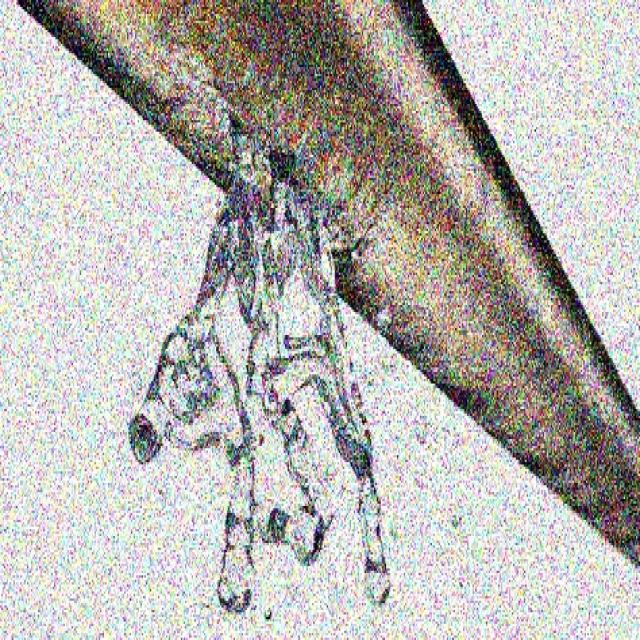Leak: (222, 111, 372, 263)
